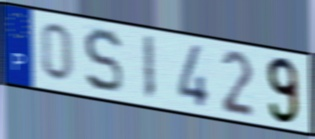0: (39, 21, 76, 84)
2: (219, 48, 259, 120)
4: (176, 43, 211, 110)
9: (264, 55, 302, 127)
I: (141, 33, 156, 104)
S: (81, 26, 124, 96)
